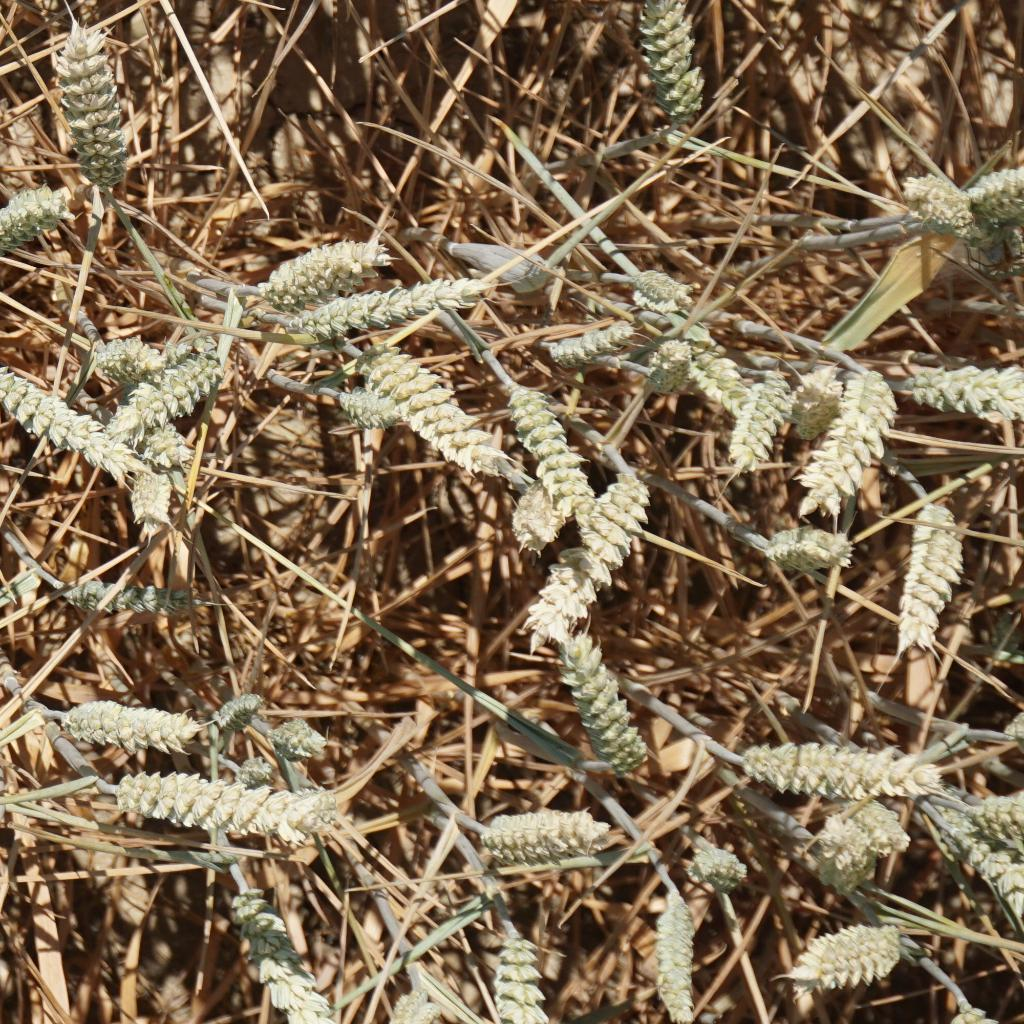0-0: (486, 472, 661, 618), (360, 334, 519, 482), (112, 763, 328, 852), (0, 358, 128, 488), (226, 886, 338, 1024), (57, 9, 134, 200), (882, 490, 970, 653), (742, 730, 943, 799), (622, 0, 722, 132), (553, 640, 649, 774), (476, 787, 604, 880), (273, 285, 505, 336), (777, 893, 907, 984), (900, 342, 1021, 437), (512, 381, 604, 505), (720, 350, 803, 468), (460, 913, 546, 1024), (817, 350, 882, 496), (67, 687, 195, 754), (531, 309, 644, 384), (62, 565, 202, 624), (123, 358, 234, 431), (799, 799, 898, 880), (646, 889, 704, 1024), (256, 232, 384, 291), (756, 518, 858, 584), (673, 323, 744, 407), (116, 454, 177, 545), (902, 169, 976, 244), (500, 480, 570, 549), (637, 256, 716, 314), (92, 314, 153, 384), (262, 714, 350, 761), (679, 837, 748, 896), (956, 157, 1024, 216), (791, 348, 837, 433), (364, 966, 431, 1024), (972, 844, 1024, 917), (141, 425, 208, 480), (655, 316, 695, 397), (338, 386, 409, 431), (0, 193, 65, 242), (210, 679, 262, 736), (972, 791, 1024, 836), (0, 783, 15, 872)
